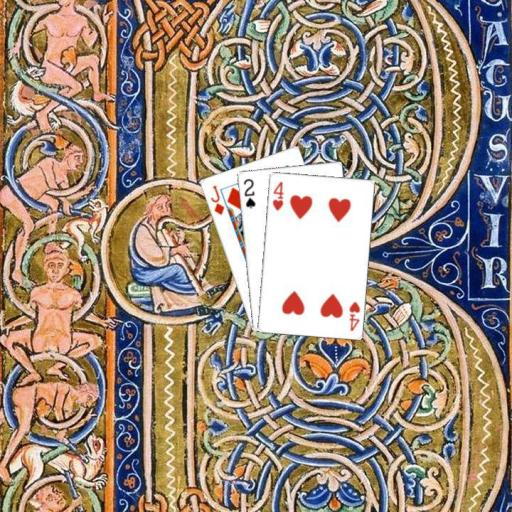2S: (240, 176, 257, 210)
4H: (269, 178, 284, 212), (346, 298, 361, 332)
JD: (207, 182, 225, 216)
